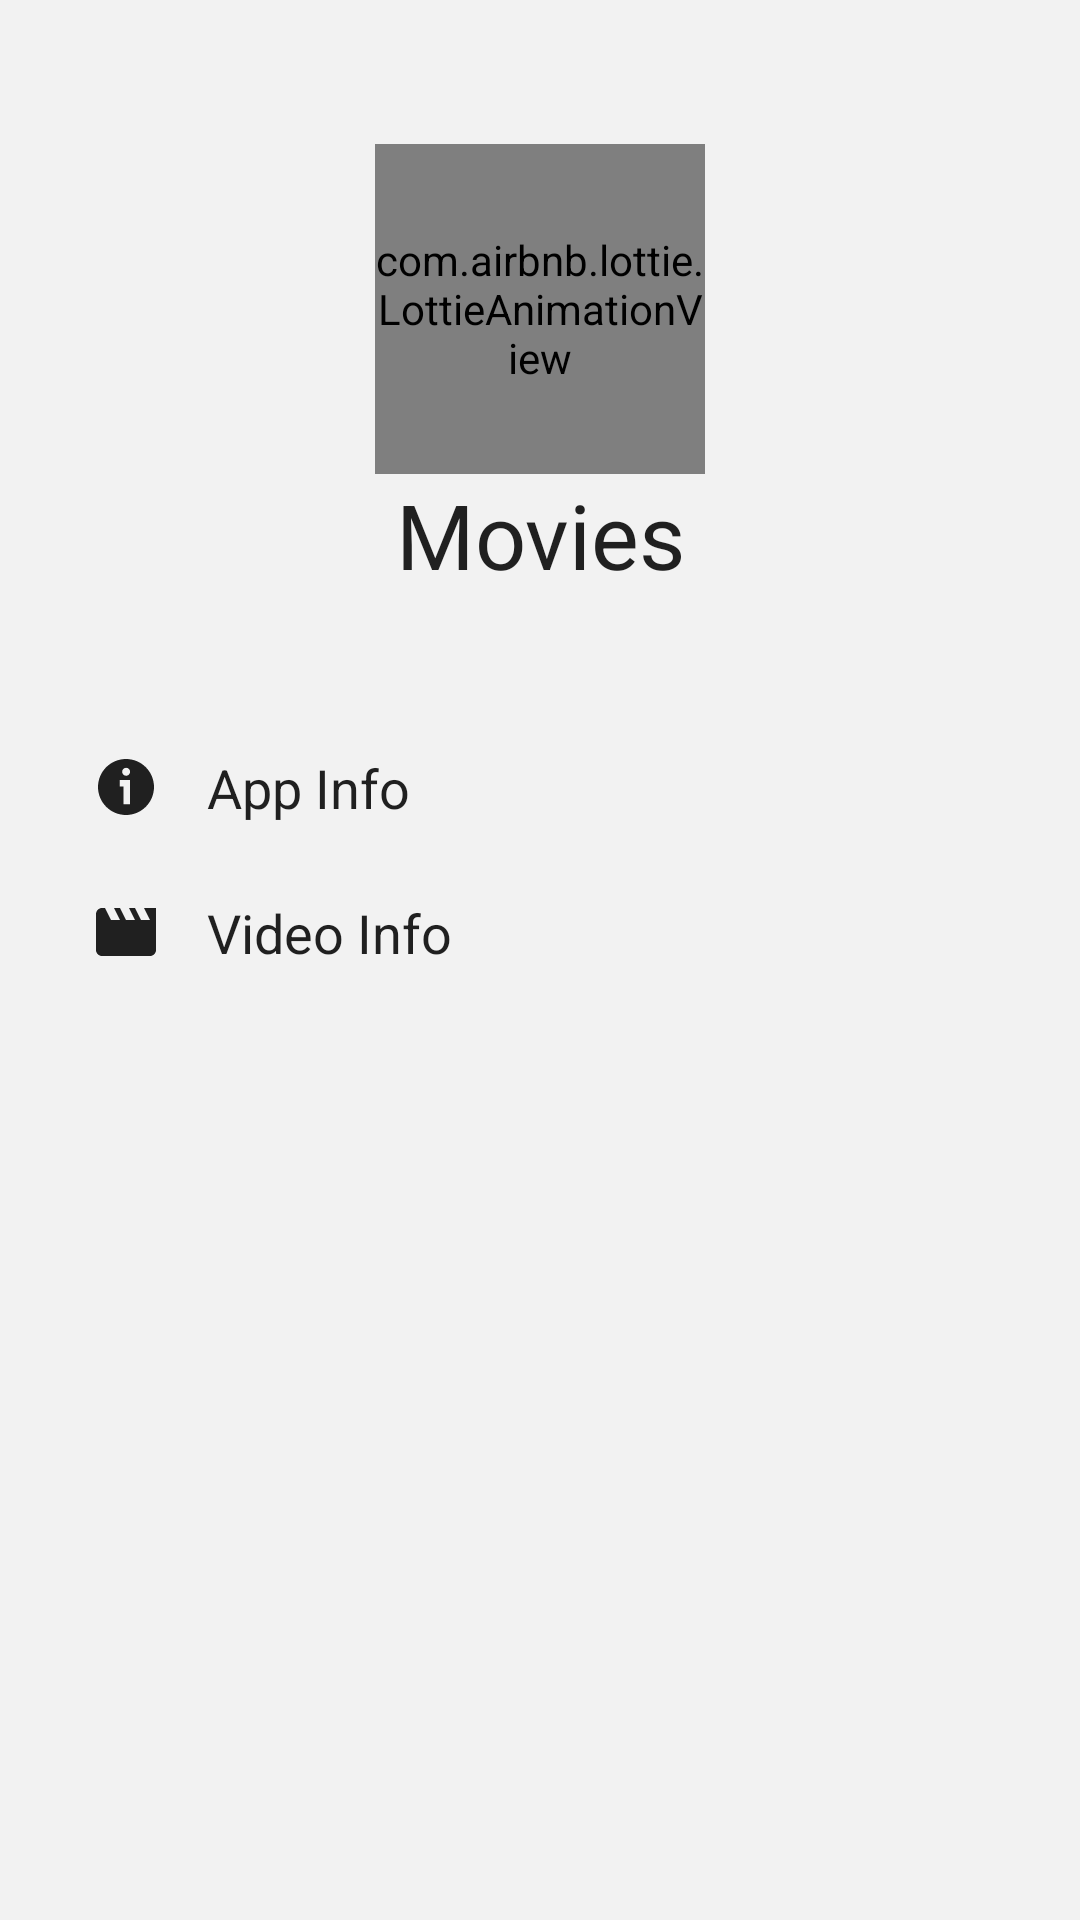

Locate icon controls on the screen. Image size 1080×1920, boxes as (x1, y1, x2, y2).
movie: (96, 908, 156, 956)
